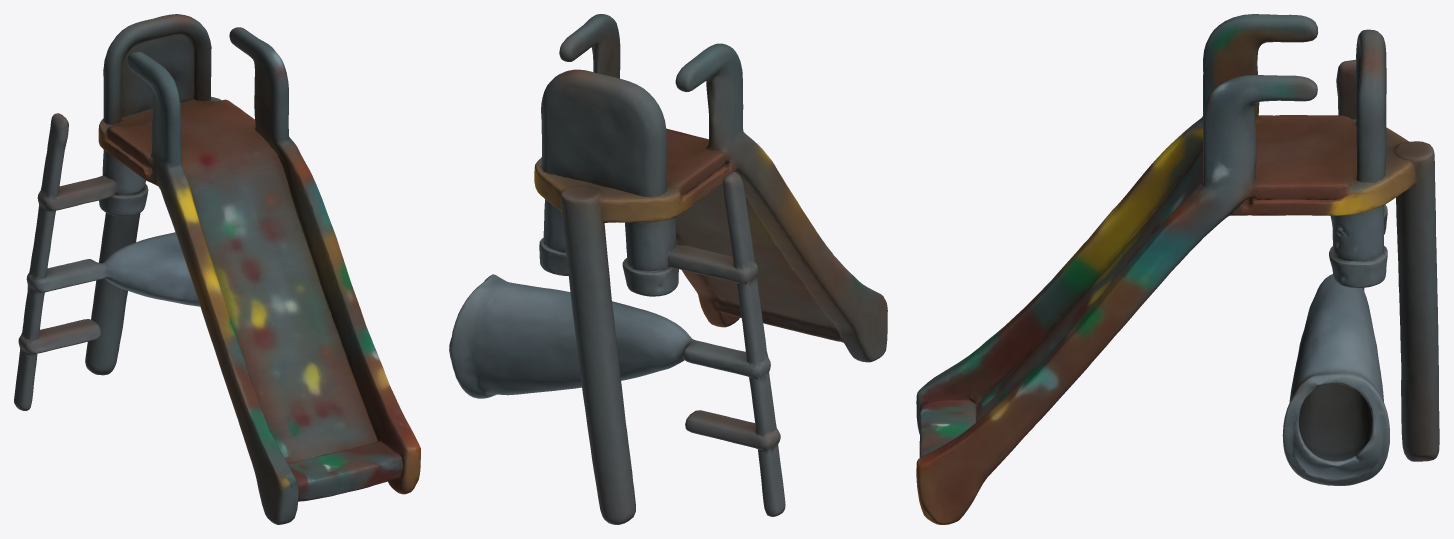
File: slide.glb
3 renders of one model, left to right at view 1: azimuth 30°, elevation 25°; view 2: azimuth 150°, elevation 25°; view 3: azimuth 270°, elevation 25°, orthographic. The views are drawn at different scales.
Visible parts, largest first — view 1: Mesh; view 2: Mesh; view 3: Mesh.
Boxes of the visible parts, x1=… form: Mesh: x1=14, y1=14, x2=420, y2=524; Mesh: x1=449, y1=14, x2=887, y2=524; Mesh: x1=916, y1=14, x2=1439, y2=524.
Bounding box in the file's own units: 1.43 × 1.75 × 1.89.
1 material, 1 textured.
